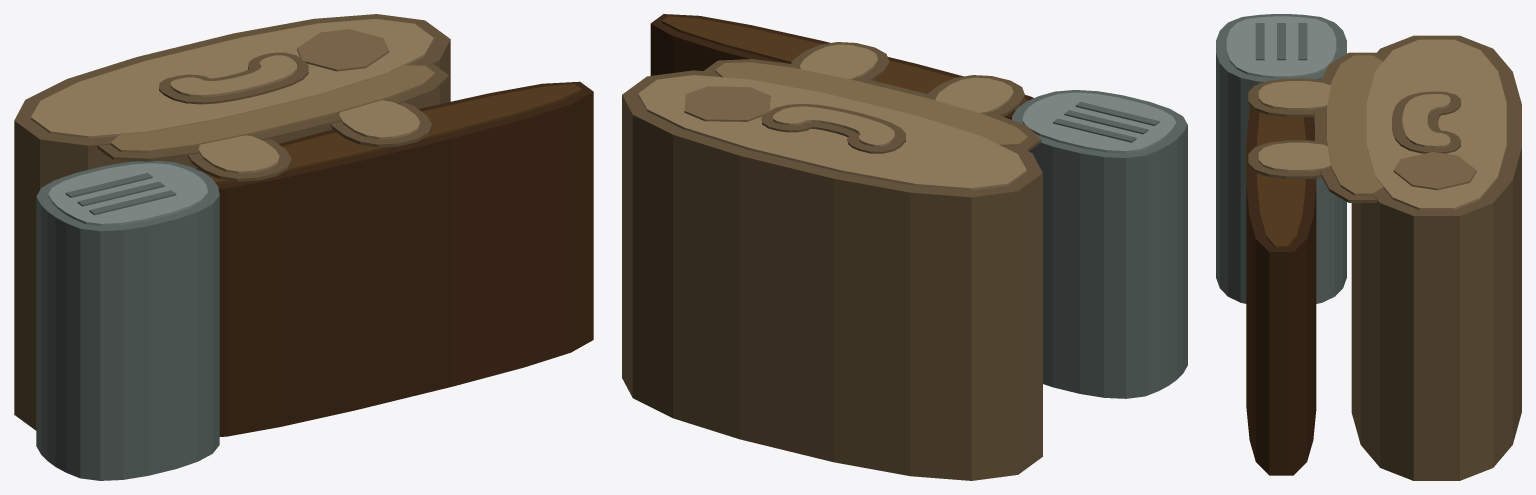
Rendered from bag_explorador_pa_couro.fbx.
The picture shows the model from 3 angles, left to right: view 1: azimuth 30°, elevation 25°; view 2: azimuth 150°, elevation 25°; view 3: azimuth 270°, elevation 25°; orthographic projection. The views are drawn at different scales.
Parts seen in each view (by area): view 1: bag_explorador_pa_couro_mochila; view 2: bag_explorador_pa_couro_mochila; view 3: bag_explorador_pa_couro_mochila.
Boxes of the visible parts, x1,y1,x2,y2 form: bag_explorador_pa_couro_mochila: (14,14,593,480); bag_explorador_pa_couro_mochila: (622,14,1187,480); bag_explorador_pa_couro_mochila: (1216,14,1521,480).
Size of the model in its own units: 3.66 by 1.96 by 2.01.
1 material, 1 textured.
